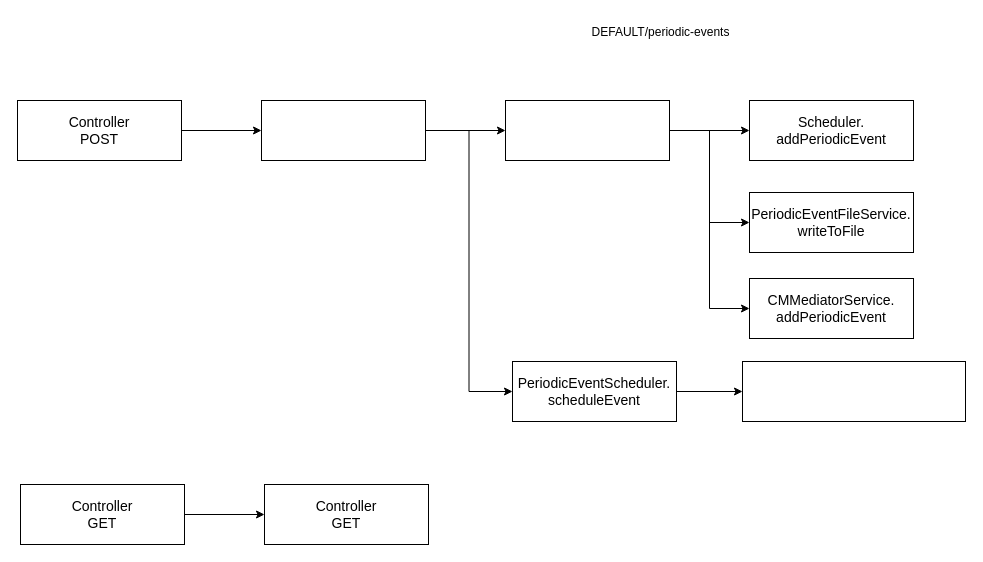
The diagram is 983 pixels wide and 562 high, and some of its shapes have lost their labels. Each missing label, with the centre of its shape:
"ScheduledEventHandler. createPeriodicEvent" goes at pixel 343 130.
"ScheduledEventHandler. persistNewEvent" goes at pixel 587 130.
"ScheduledThreadPoolExecutor. scheduleAtFixedRate" goes at pixel 854 391.
